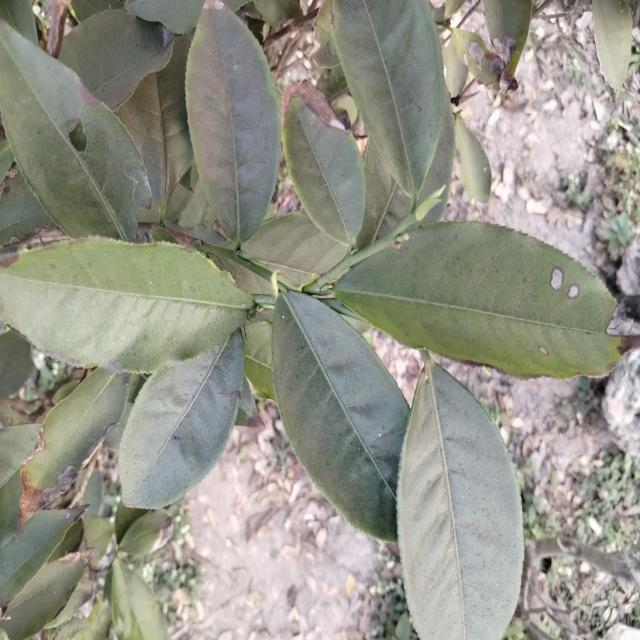Leaf: (333, 222, 630, 379), (397, 361, 524, 640), (271, 290, 409, 541), (0, 238, 252, 373), (0, 21, 151, 242), (331, 0, 445, 204), (186, 0, 280, 247), (118, 329, 245, 508), (18, 369, 129, 531), (281, 81, 365, 249), (119, 35, 193, 214), (59, 10, 174, 110), (0, 506, 86, 608), (242, 211, 348, 285), (0, 553, 85, 640), (0, 424, 41, 546), (111, 559, 168, 640), (0, 170, 55, 245), (482, 0, 533, 80), (592, 0, 633, 90), (455, 119, 491, 203), (452, 29, 505, 86), (124, 0, 204, 34), (245, 319, 274, 400), (120, 511, 172, 556), (54, 600, 111, 640), (214, 256, 273, 294), (0, 330, 33, 397), (82, 514, 114, 568), (442, 37, 468, 98), (221, 0, 251, 11)
